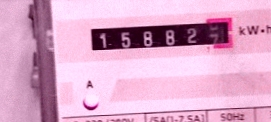1: (97, 31, 108, 49)
2: (185, 26, 196, 43)
5: (118, 30, 131, 48)
7: (207, 31, 219, 45)
8: (141, 29, 153, 46), (164, 28, 175, 44)
screen: (83, 14, 239, 55)
